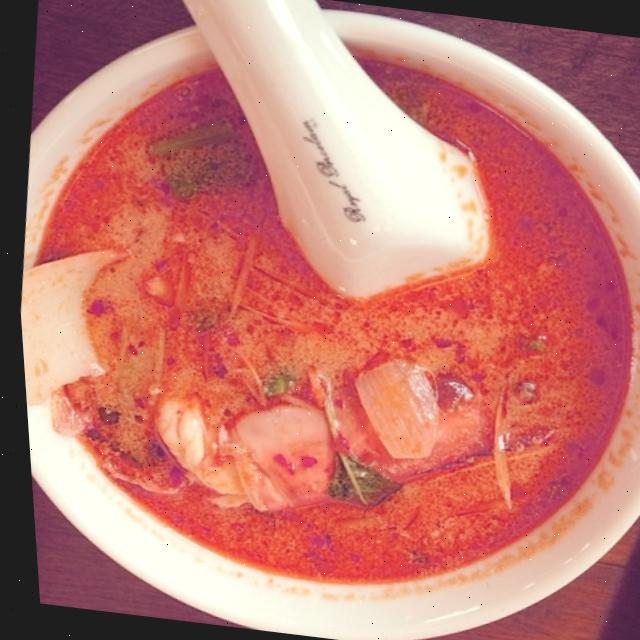汤锅炖物: (0, 2, 640, 625)
